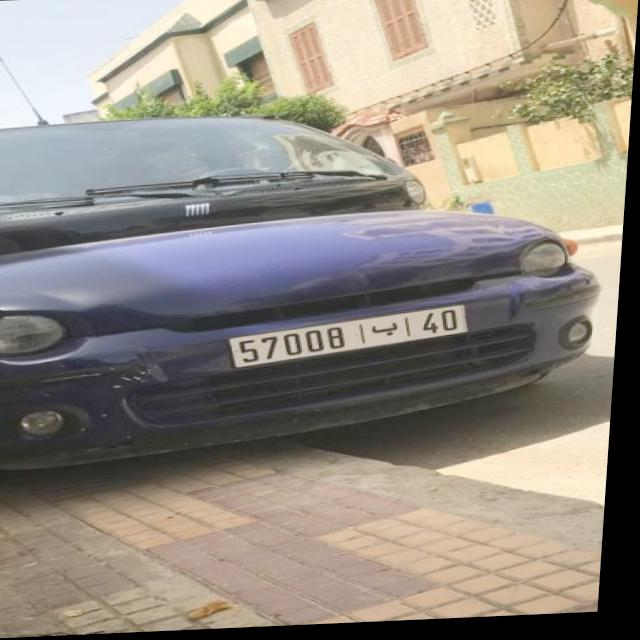License-Plate: (235, 310, 473, 369)
